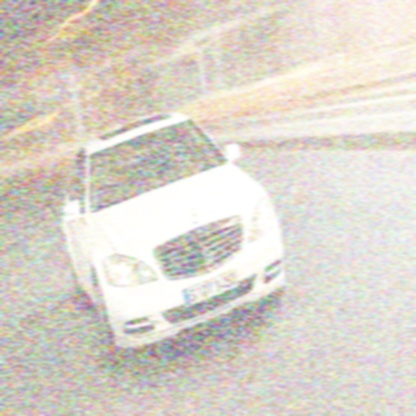Vehicle: (61, 110, 288, 372)
